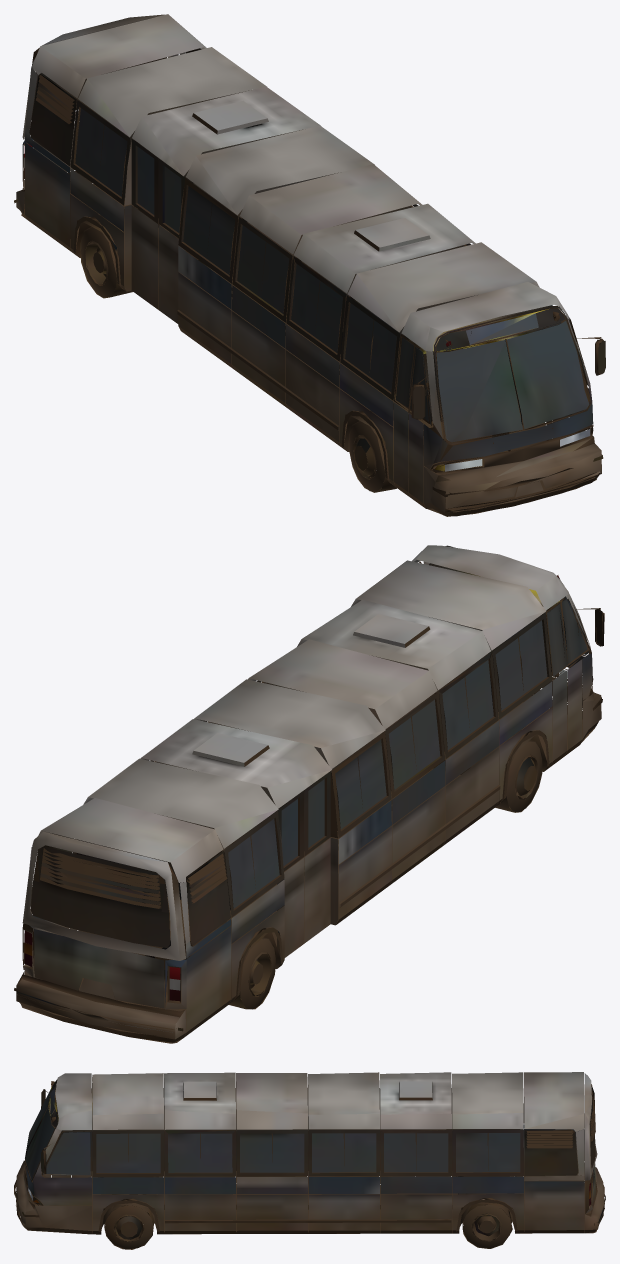
File: pack-city-bus-L3.glb
The picture shows the model from 3 angles, top to bottom: view 1: azimuth 30°, elevation 25°; view 2: azimuth 150°, elevation 25°; view 3: azimuth 270°, elevation 25°; orthographic projection. The views are drawn at different scales.
Parts seen in each view (by area): view 1: body; view 2: body; view 3: body.
Part boxes in pixels (bbox=[...]): body: bbox=[14, 14, 605, 516]; body: bbox=[14, 545, 604, 1043]; body: bbox=[14, 1072, 605, 1249].
Bounding box in the file's own units: 2.54 × 2.5 × 9.99.
1 material, 1 textured.
